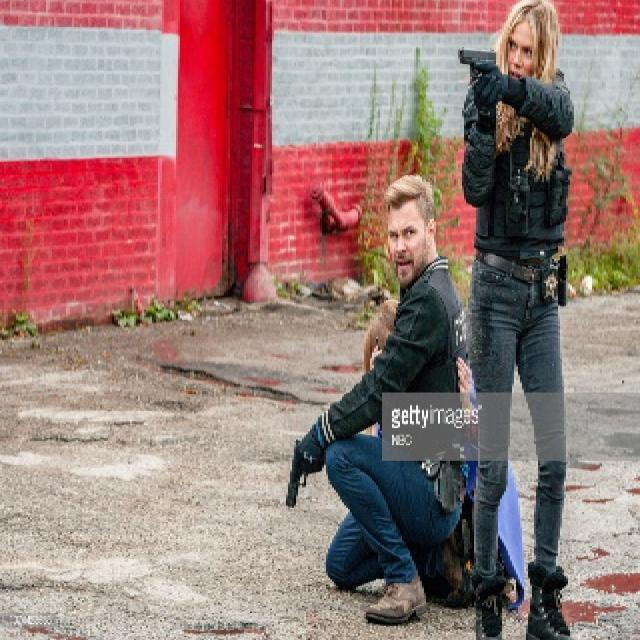weapon: (280, 438, 310, 506), (454, 46, 500, 86)
